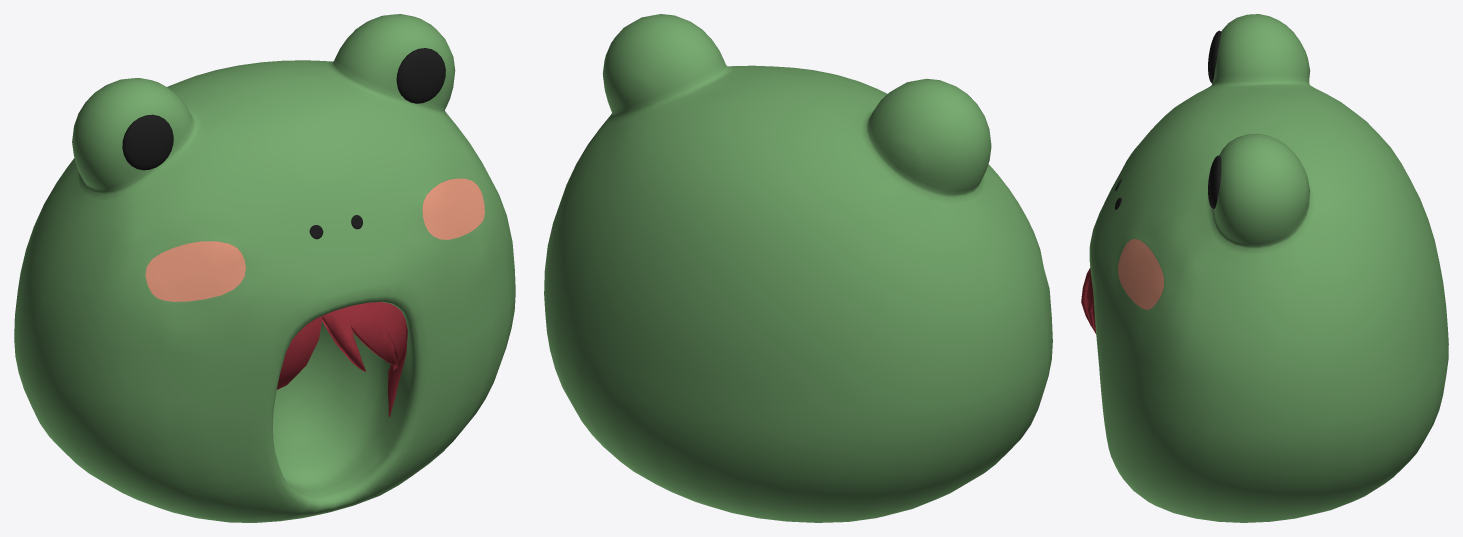
3 renders of one model, left to right at view 1: azimuth 30°, elevation 25°; view 2: azimuth 150°, elevation 25°; view 3: azimuth 270°, elevation 25°, orthographic. The views are drawn at different scales.
Visible parts, largest first — view 1: Frog_Headobjcleanermaterialmergergles; view 2: Frog_Headobjcleanermaterialmergergles; view 3: Frog_Headobjcleanermaterialmergergles.
Boxes of the visible parts, x1,y1,x2,y2 form: Frog_Headobjcleanermaterialmergergles: (14,14,515,522); Frog_Headobjcleanermaterialmergergles: (544,14,1052,522); Frog_Headobjcleanermaterialmergergles: (1081,14,1448,522).
Bounding box in the file's own units: 0.4459 × 0.3989 × 0.3299.
Materials: 3 (3 with a texture image).
